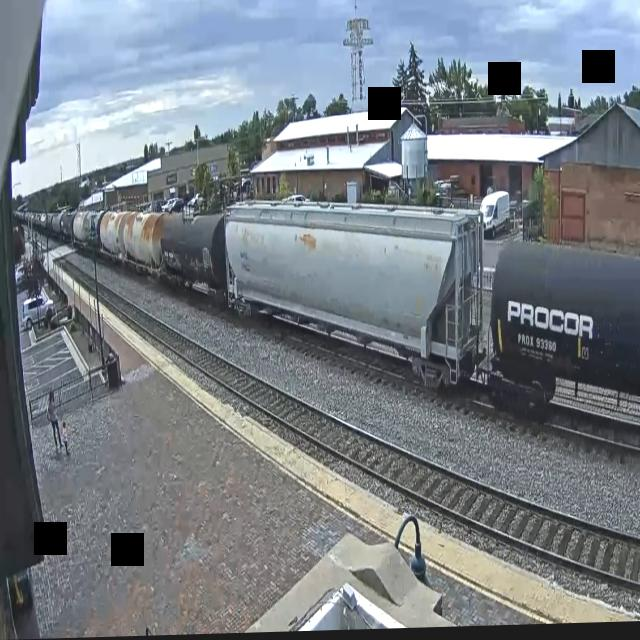hopper: (217, 192, 488, 411)
tank: (485, 226, 640, 454), (158, 198, 227, 307)
